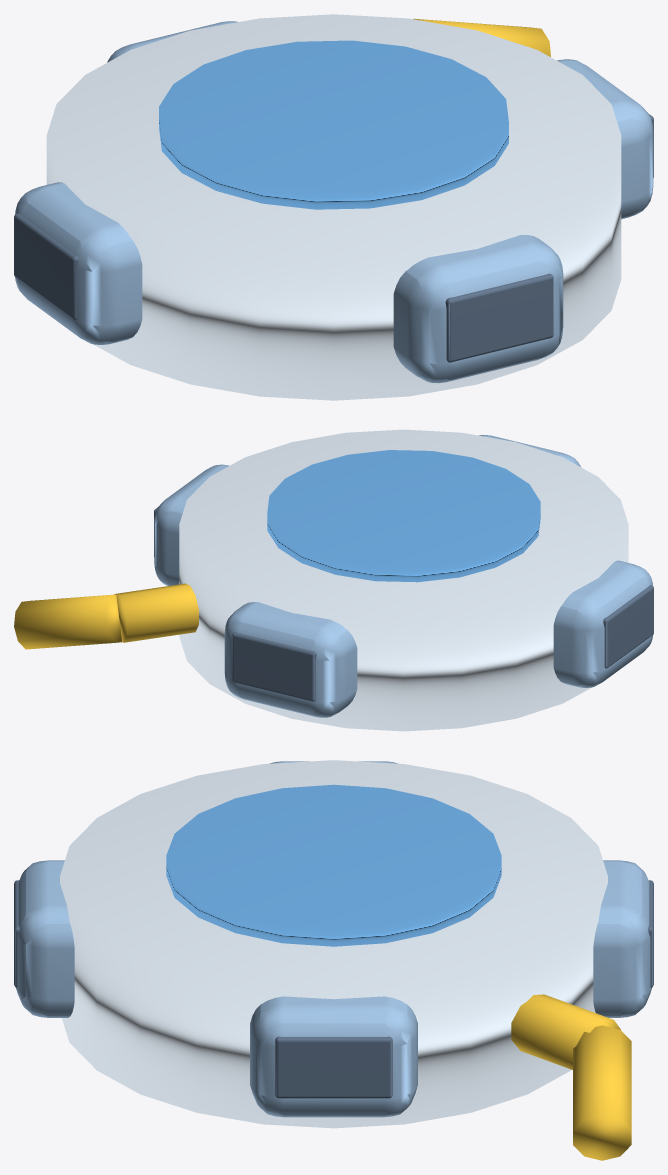
The model's file is pcv_usb_port_puck_hub.glb.
The picture shows the model from 3 angles, top to bottom: view 1: azimuth 30°, elevation 25°; view 2: azimuth 150°, elevation 25°; view 3: azimuth 270°, elevation 25°; orthographic projection. The views are drawn at different scales.
Parts seen in each view (by area): view 1: pcv_usb_port_puck_hub_MOBILE_JOINED; view 2: pcv_usb_port_puck_hub_MOBILE_JOINED; view 3: pcv_usb_port_puck_hub_MOBILE_JOINED.
Part boxes in pixels (<box>): pcv_usb_port_puck_hub_MOBILE_JOINED: <box>14,14,653,400</box>; pcv_usb_port_puck_hub_MOBILE_JOINED: <box>14,429,653,731</box>; pcv_usb_port_puck_hub_MOBILE_JOINED: <box>14,760,653,1160</box>.
Bounding box in the file's own units: 1.26 × 0.31 × 1.15.
